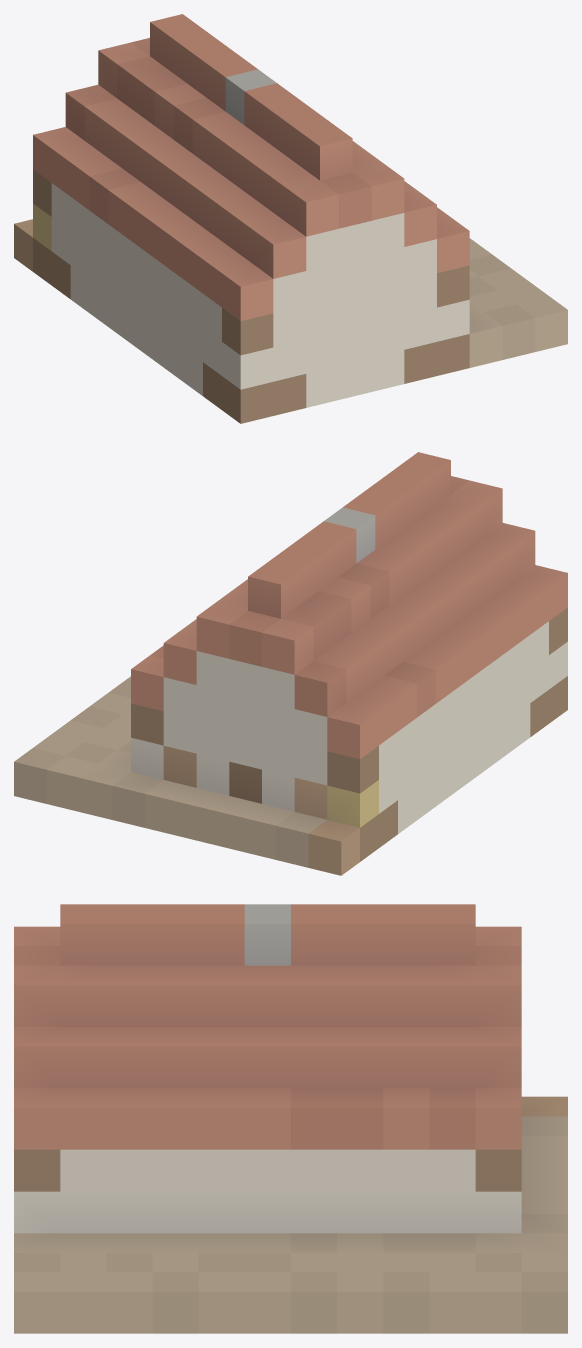
The model's file is cidery.lite.glb.
3 views of the same model, one above another, from view 1: azimuth 30°, elevation 25°; view 2: azimuth 150°, elevation 25°; view 3: azimuth 270°, elevation 25° (orthographic). The views are drawn at different scales.
Parts seen in each view (by area): view 1: cidery; view 2: cidery; view 3: cidery.
Part boxes in pixels (x1,y1,x2,y2): cidery: [14, 14, 567, 423]; cidery: [14, 452, 567, 875]; cidery: [14, 904, 567, 1333].
Size of the model in its own units: 5 by 3.5 by 6.
